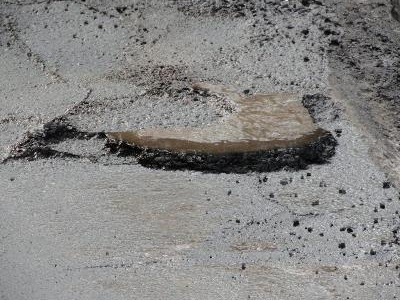pothole: (95, 80, 342, 177), (2, 112, 89, 163)
